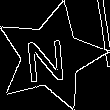N_N: (29, 29, 73, 84)
